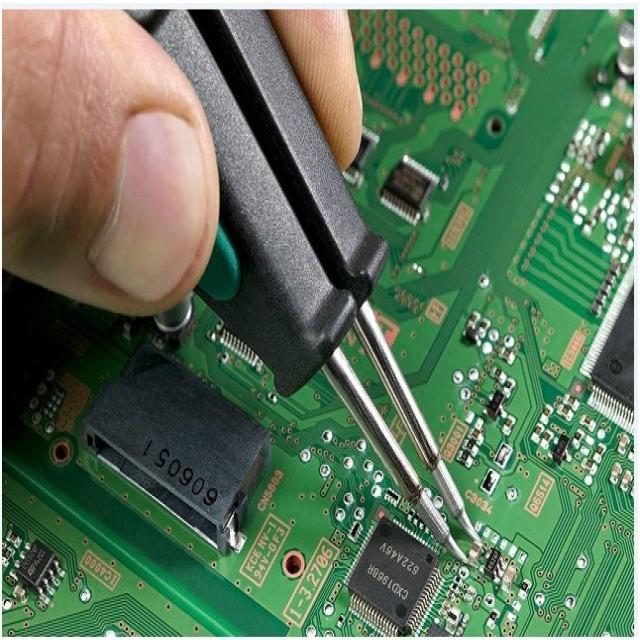pcb: (2, 7, 633, 636), (333, 8, 634, 634)
